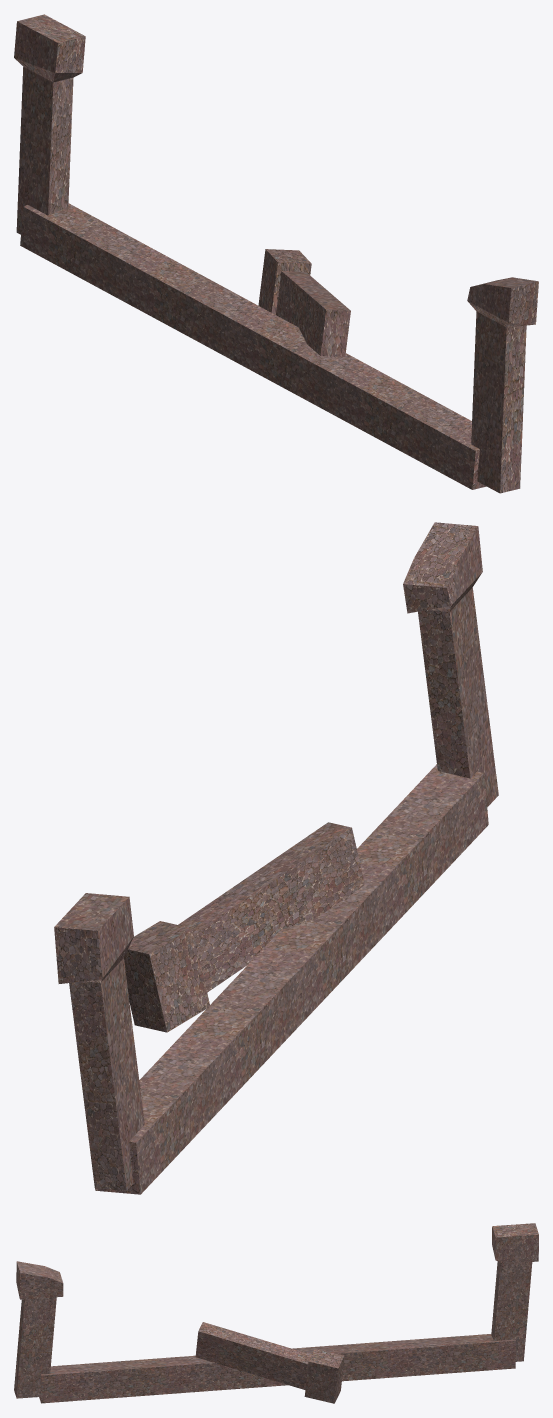
File: Ruina.fbx
3 views of the same model, one above another, from view 1: azimuth 30°, elevation 25°; view 2: azimuth 150°, elevation 25°; view 3: azimuth 270°, elevation 25° (orthographic). The views are drawn at different scales.
Visible parts, largest first — view 1: Ruinas; view 2: Ruinas; view 3: Ruinas.
Part boxes in pixels (box(x1,y1,x2,y2)): Ruinas: box(14, 14, 538, 493); Ruinas: box(54, 522, 498, 1194); Ruinas: box(14, 1223, 538, 1403).
Size of the model in its own units: 376 by 1727 by 523.
